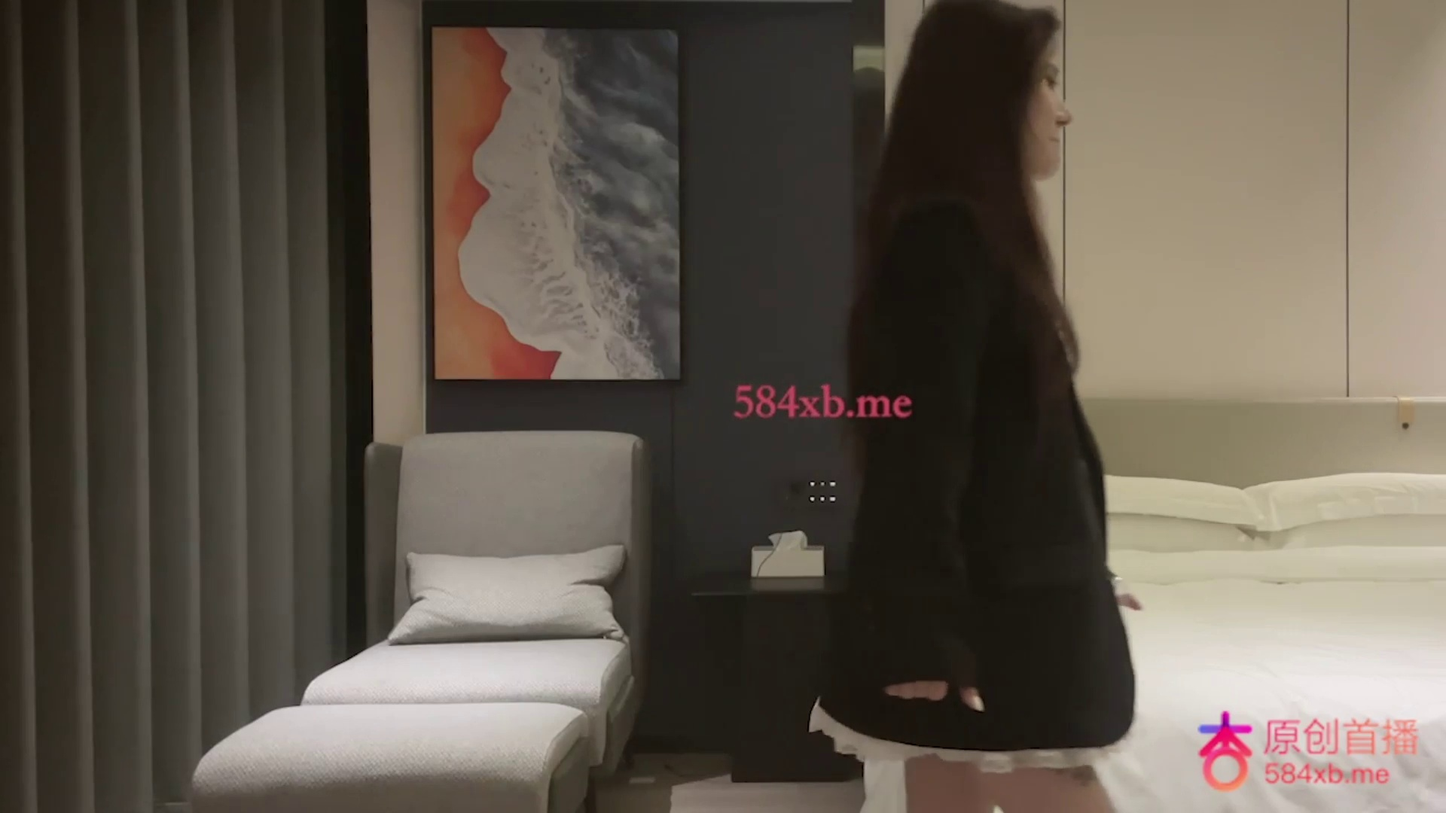stand: (806, 1, 1150, 813)
